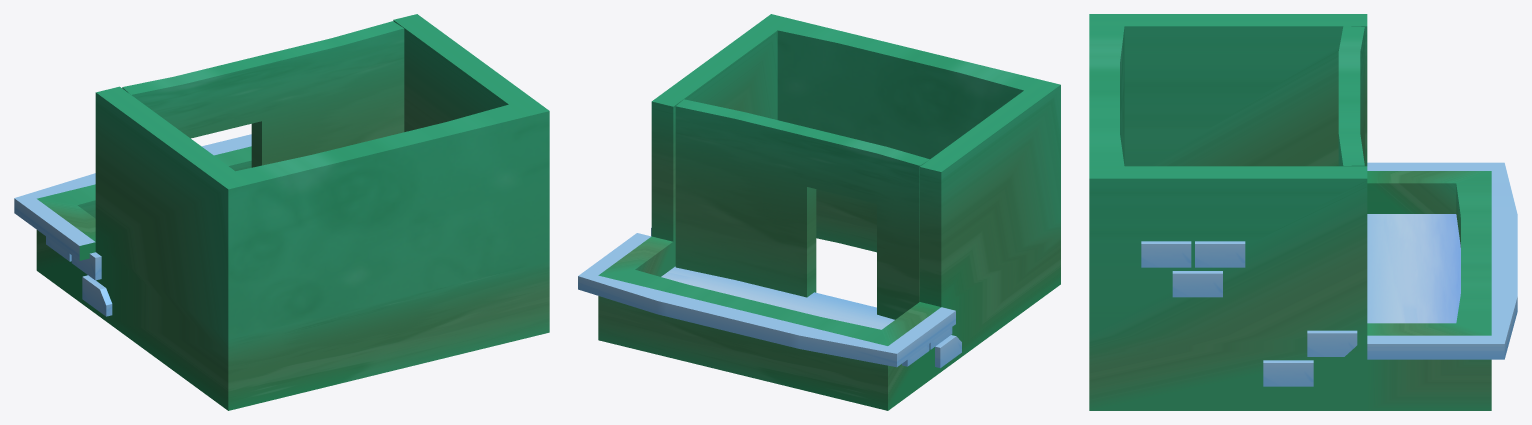
The model's file is B1Top_Green.fbx.
The picture shows the model from 3 angles, left to right: view 1: azimuth 30°, elevation 25°; view 2: azimuth 150°, elevation 25°; view 3: azimuth 270°, elevation 25°; orthographic projection. The views are drawn at different scales.
Visible parts, largest first — view 1: polySurface10; view 2: polySurface10; view 3: polySurface10.
Boxes of the visible parts, x1,y1,x2,y2 form: polySurface10: (14, 14, 549, 410); polySurface10: (578, 14, 1060, 410); polySurface10: (1089, 14, 1517, 410).
Size of the model in its own units: 357 by 214 by 357.
